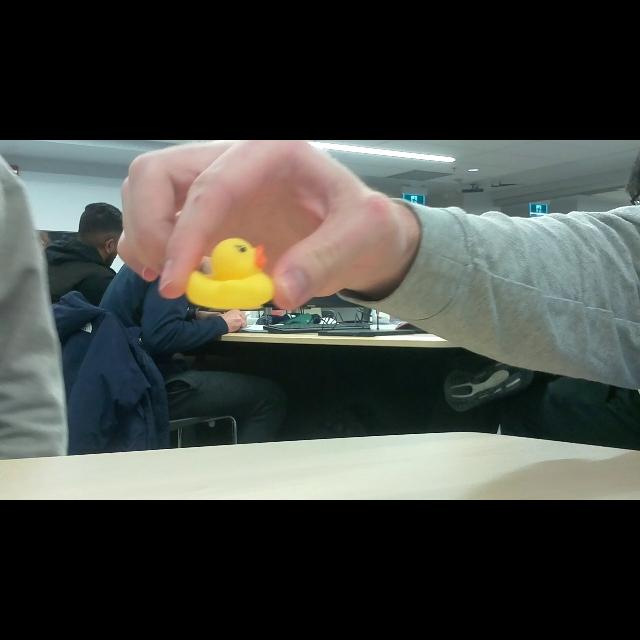duck_regular: (188, 238, 277, 309)
